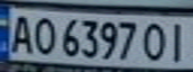3: (78, 17, 100, 60)
6: (57, 16, 81, 57)
7: (115, 18, 142, 61)
9: (96, 18, 121, 61)
A: (3, 11, 36, 54)
I: (163, 19, 193, 63)
O: (139, 19, 172, 63), (30, 14, 57, 56)
